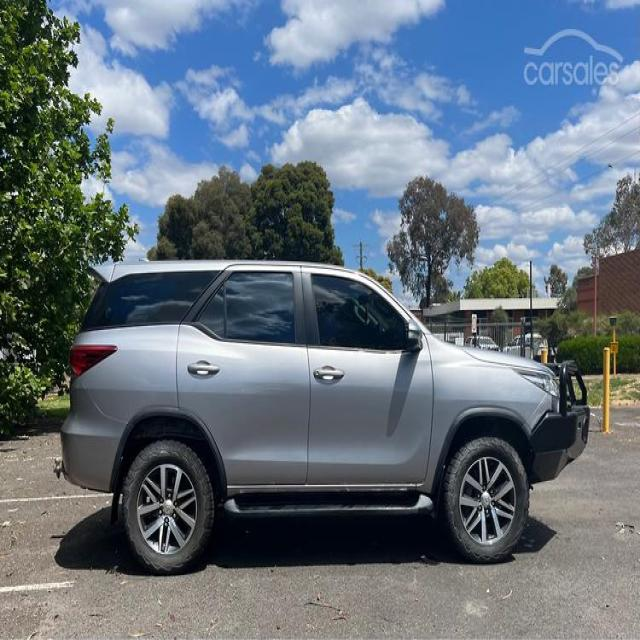light_vehicle: (58, 258, 591, 574)
